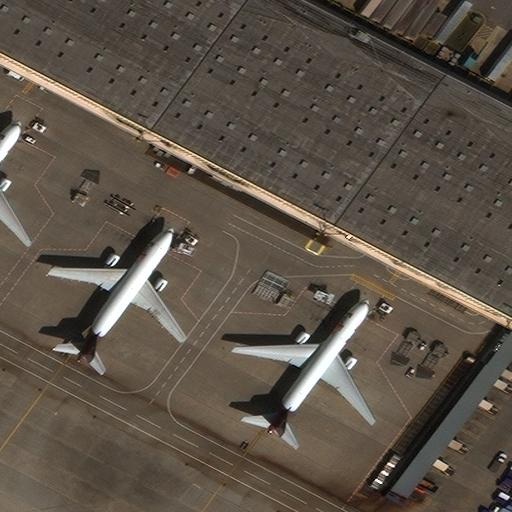Large Civil Transport: (235, 300, 376, 434), (51, 227, 186, 361), (0, 121, 31, 247)
